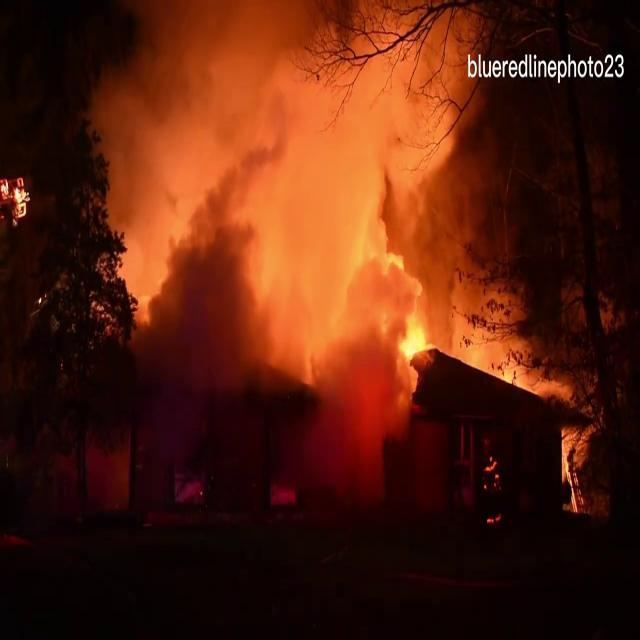Fire: (96, 2, 484, 404), (0, 171, 30, 224)
Smoke: (94, 0, 485, 404)
